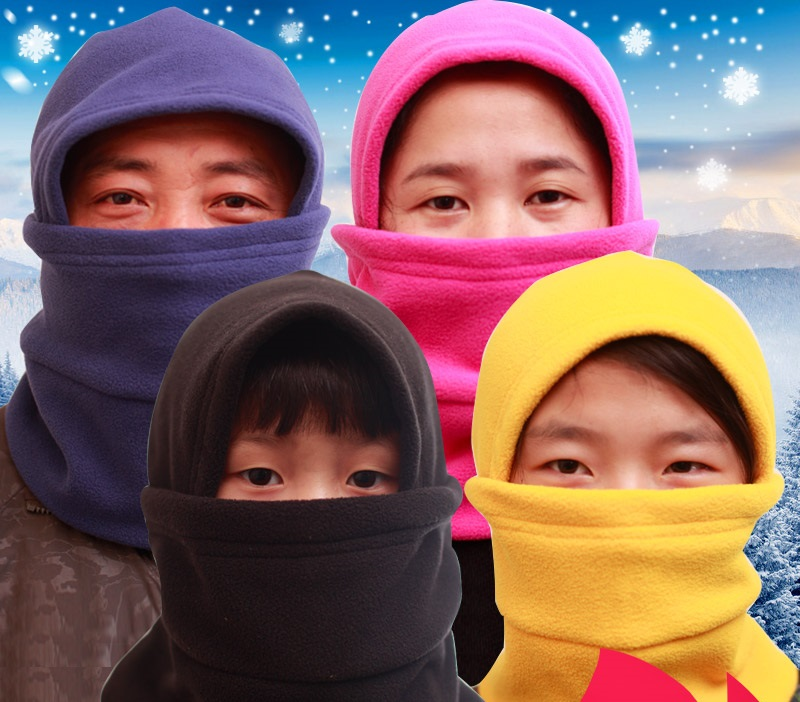face_mask: (502, 353, 748, 628), (57, 106, 300, 366), (377, 85, 610, 355), (200, 380, 414, 635)
